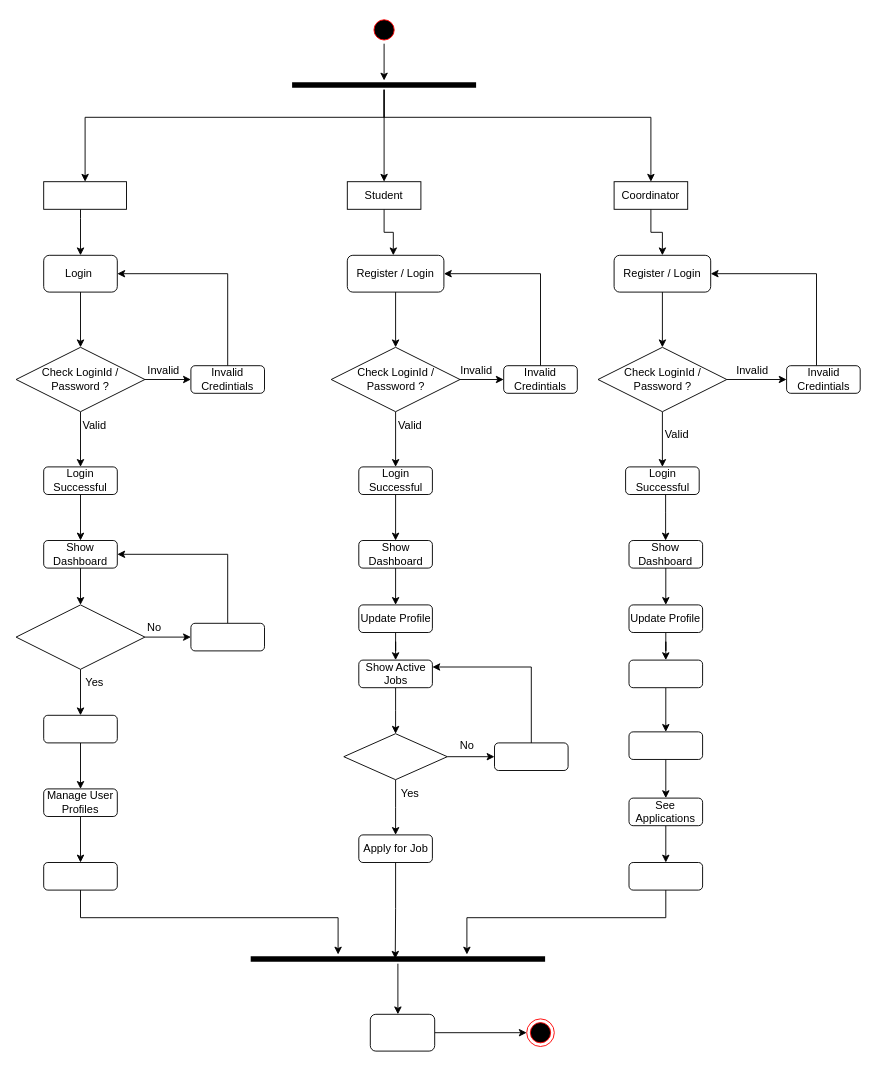
Some shapes in this 877 by 1067 pixel diagram are drawn without their labels. The shapes that lost their labels are listed below. From the top down, each one's centre as x and y in pixels, then its label:
At pixel 84 195: "Admin".
At pixel 80 636: "Validate Registered User?".
At pixel 227 636: "Provoke Access".
At pixel 665 673: "Add Job".
At pixel 80 728: "Grant Access".
At pixel 665 745: "Manage Job".
At pixel 395 756: "Check Eligibility ?".
At pixel 531 756: "See other Jobs".
At pixel 80 876: "Manage Active Jobs".
At pixel 665 876: "Download Resume".
At pixel 402 1032: "Logout".
